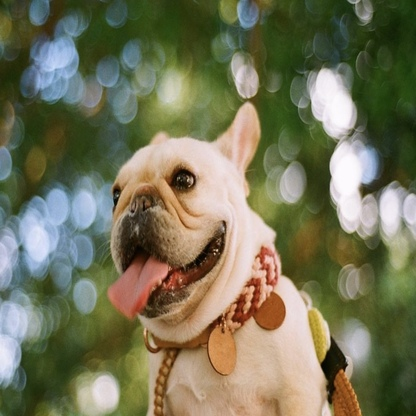bulldog: (104, 99, 333, 415)
